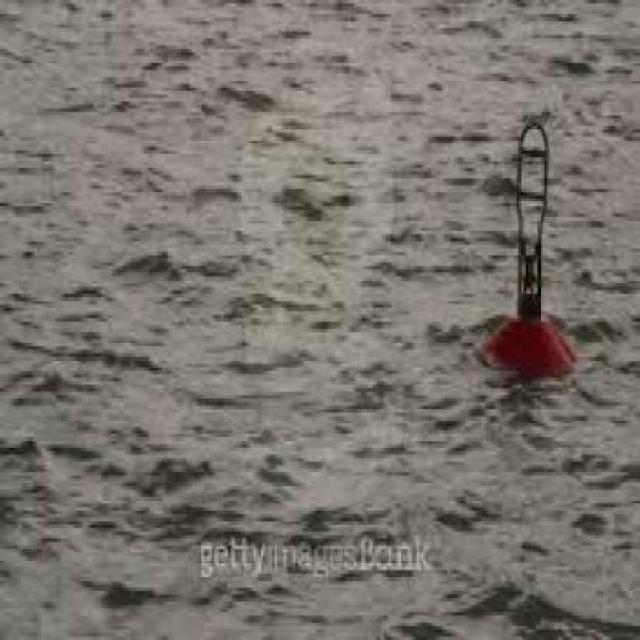buoy: (474, 113, 597, 390)
